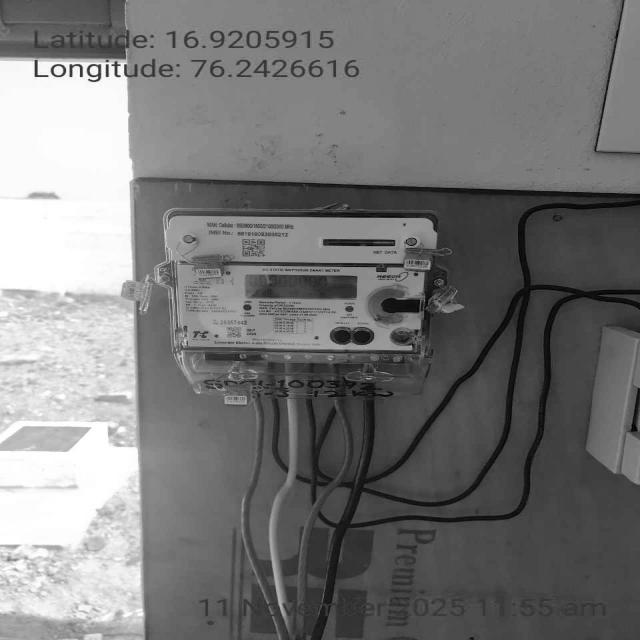meter: (156, 212, 438, 351)
